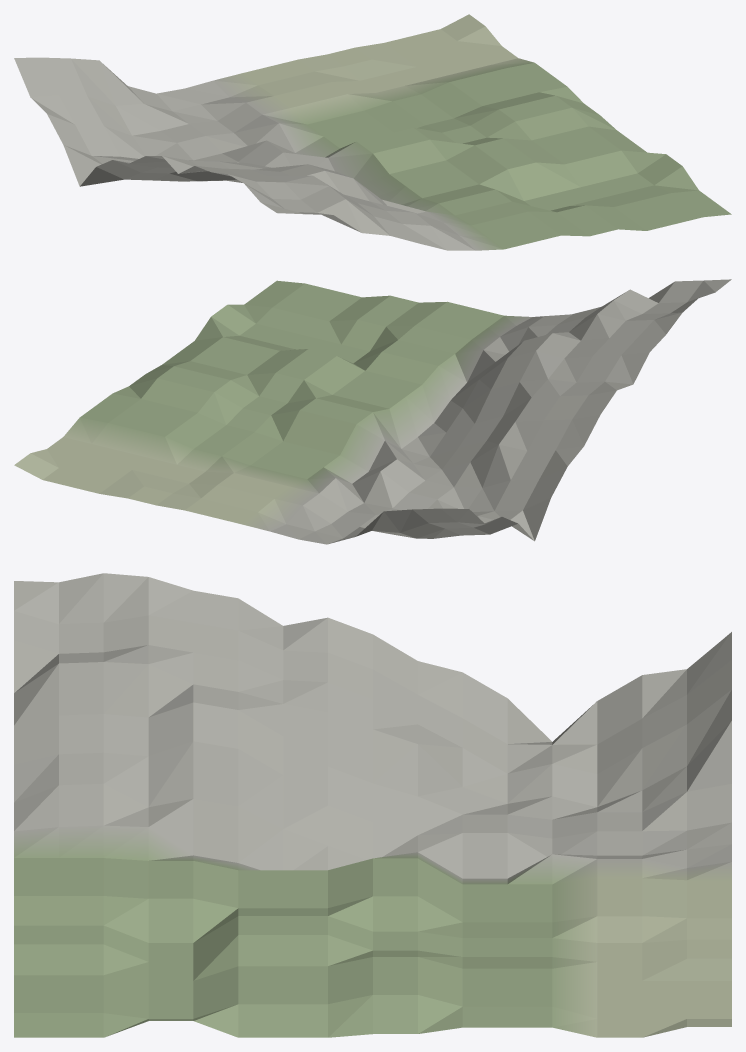
3 renders of one model, top to bottom at view 1: azimuth 30°, elevation 25°; view 2: azimuth 150°, elevation 25°; view 3: azimuth 270°, elevation 25°, orthographic. The views are drawn at different scales.
Size of the model in its own units: 32 by 8.71 by 32.
